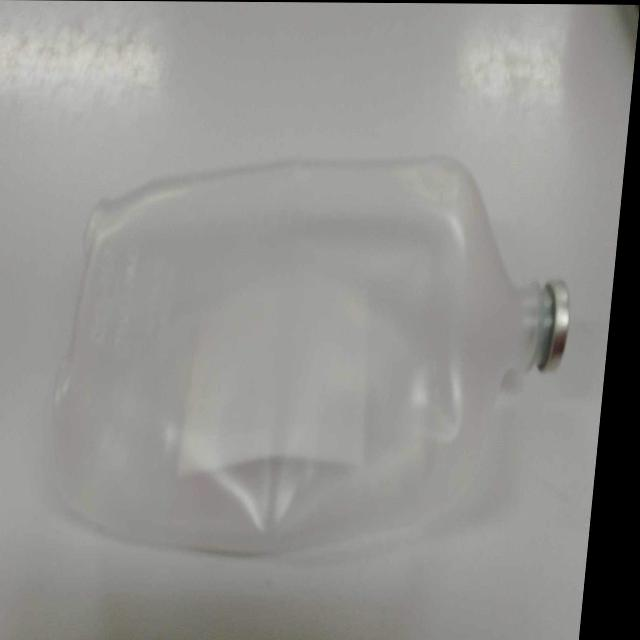Infectious: (48, 152, 569, 557)
